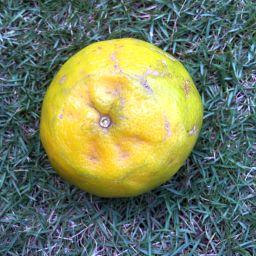Ripe: (43, 42, 194, 196)
